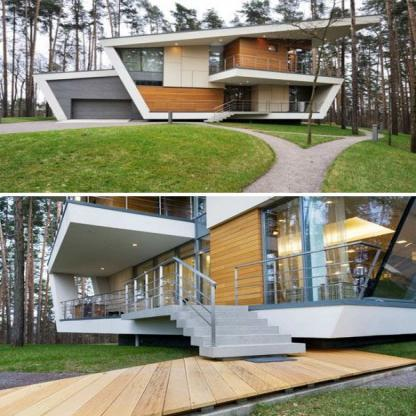Balcony: (210, 54, 343, 78), (213, 99, 324, 121)
Building Outline: (31, 14, 380, 125)
Door: (71, 98, 132, 119), (223, 88, 251, 112), (209, 56, 222, 76)
Facade: (31, 14, 381, 124)
Floor Slab: (116, 69, 344, 84), (140, 112, 325, 119)
Window: (121, 47, 164, 72), (288, 46, 311, 73), (289, 89, 316, 112), (134, 80, 163, 86), (268, 44, 277, 51)
